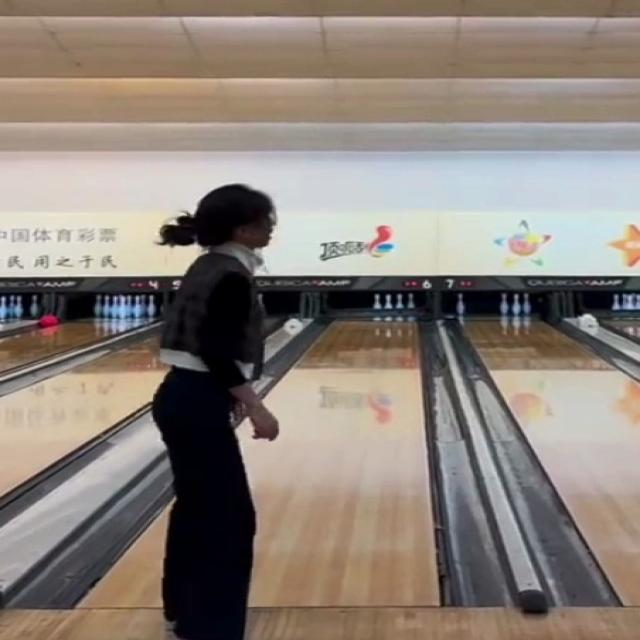alley: (238, 320, 438, 606), (79, 512, 166, 607)
